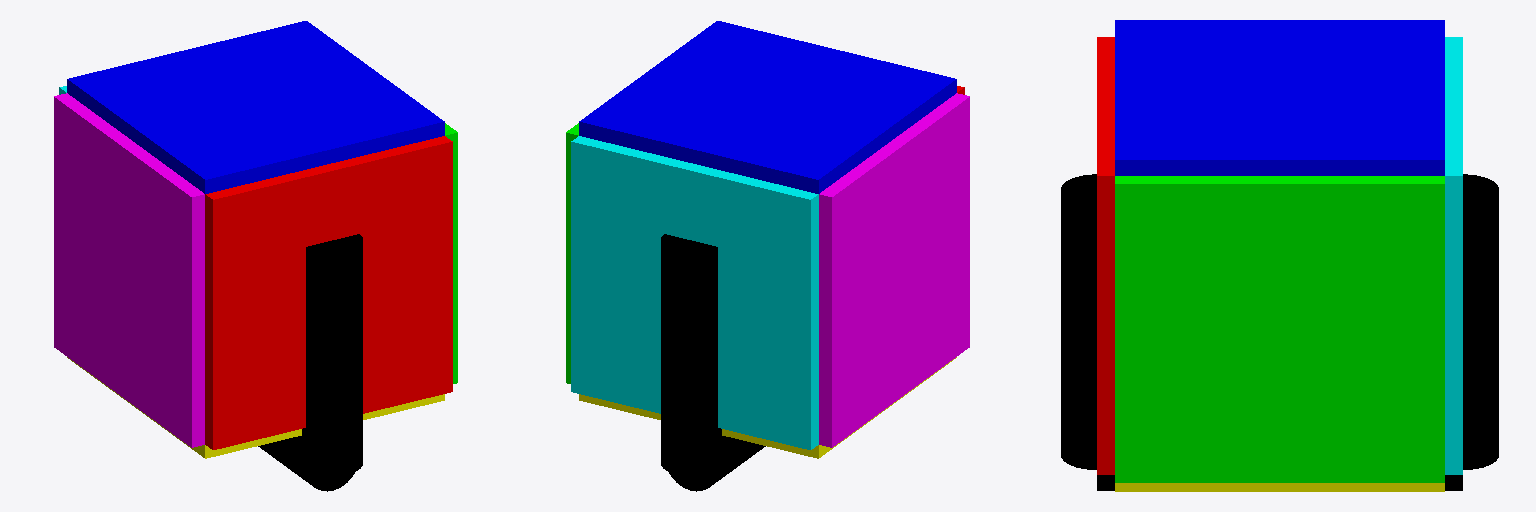
The robot description file, URDF, robot "UNNAMED_1":
<?xml version="1.0"?>
<robot  name="UNNAMED_1" >


      <!-- *************************************************** -->
  <!-- ******************* RVIZ Colors ******************* -->
  <!-- *************************************************** -->

  <material name="white">    <color rgba="1.00 1.00 1.00 1"/>  </material>
  <material name="gray">     <color rgba="0.60 0.60 0.60 1"/>  </material>
  <material name="table">    <color rgba="0.85 0.77 0.77 1"/>  </material>
  <material name="black">    <color rgba="0.00 0.00 0.00 1"/>  </material>

  <material name="red">      <color rgba="1.00 0.00 0.00 1"/>  </material>
  <material name="green">    <color rgba="0.00 1.00 0.00 1"/>  </material>
  <material name="blue">     <color rgba="0.00 0.00 1.00 1"/>  </material>

  <material name="cyan">     <color rgba="0.00 1.00 1.00 1"/>  </material>
  <material name="magenta">  <color rgba="1.00 0.00 1.00 1"/>  </material>
  <material name="yellow">   <color rgba="1.00 1.00 0.00 1"/>  </material>

  <material name="orange">   <color rgba="1.00 0.65 0.00 1"/>  </material>



 <link  name="world" />
 <joint  type="fixed"  name="world_joint" >
  <parent  link="world" />
  <child  link="link_0" />
  <origin  xyz="0 0 0"  rpy="0 0 0" />
 </joint>
 <link  name="link_0" >
  <visual >
   <origin  xyz="0 0 0.072"  rpy="1.57079632679 0 0" />
   <geometry >
    <mesh  filename="package://final_v1/meshes/servo.stl"  scale="0.002 0.002 0.002" />
   </geometry>
   <material  name="" >
    <color  rgba="0.2 0.1 0.8 1.0" />
   </material>
  </visual>
  <origin  xyz="0 0 0"  rpy="1.57079632679 0 1.57079632679" />
 </link>
 <joint  type="continuous"  name="joint1" >
  <origin  xyz="0 0 0.072"  rpy="0 0 -1.57079632679" />
  <limit  velocity="0.1"  effort="1000"  upper="3.14"  lower="-3.14" />
  <axis  xyz="1 0 0" />
  <parent  link="link_0" />
  <child  link="link_1" />
 </joint>
 <link  name="link_1" >
  <origin  xyz="0 0 0.036"  rpy="0 0 0" />
  <visual >
   <origin  xyz="0 0 0.072"  rpy="1.57079632679 0 0" />
   <geometry >
    <mesh  filename="package://final_v1/meshes/servo.stl"  scale="0.002 0.002 0.002" />
   </geometry>
   <material  name="" >
    <color  rgba="0.8 0.1 0.1 1.0" />
   </material>
  </visual>
 </link>
 <joint  type="continuous"  name="joint2" >
  <origin  xyz="0 0 0.072"  rpy="0 0 1.57079632679" />
  <limit  velocity="0.1"  effort="1000"  upper="3.14"  lower="-3.14" />
  <axis  xyz="1 0 0" />
  <parent  link="link_1" />
  <child  link="link_2" />
 </joint>
 <link  name="link_2" >
  <origin  xyz="0 0 0.036"  rpy="0 0 0" />
  <visual >
   <origin  xyz="0 0 0.072"  rpy="1.57079632679 0 0" />
   <geometry >
    <mesh  filename="package://final_v1/meshes/servo.stl"  scale="0.002 0.002 0.002" />
   </geometry>
   <material  name="" >
    <color  rgba="0.1 0.8 0.1 1.0" />
   </material>
  </visual>
 </link>
 <joint  type="continuous"  name="joint3" >
  <origin  xyz="0 0 0.072"  rpy="0 0 -1.57079632679" />
  <limit  velocity="0.1"  effort="1000"  upper="3.14"  lower="-3.14" />
  <axis  xyz="1 0 0" />
  <parent  link="link_2" />
  <child  link="link_3" />
 </joint>
 <link  name="link_3" >
  <origin  xyz="0 0 0.036"  rpy="0 0 0" />
  <visual >
   <origin  xyz="0 0 0.072"  rpy="1.57079632679 0 0" />
   <geometry >
    <mesh  filename="package://final_v1/meshes/servo.stl"  scale="0.002 0.002 0.002" />
   </geometry>
   <material  name="" >
    <color  rgba="0.8 0.1 0.1 1.0" />
   </material>
  </visual>
 </link>
 <joint  type="continuous"  name="joint4" >
  <origin  xyz="0 0 0.072"  rpy="0 0 1.57079632679" />
  <limit  velocity="0.1"  effort="1000"  upper="3.14"  lower="-3.14" />
  <axis  xyz="1 0 0" />
  <parent  link="link_3" />
  <child  link="link_4" />
 </joint>
 <link  name="link_4" >
  <origin  xyz="0 0 0.036"  rpy="0 0 0" />
  <visual >
   <origin  xyz="0 0 0.072"  rpy="1.57079632679 0 0" />
   <geometry >
    <mesh  filename="package://final_v1/meshes/servo.stl"  scale="0.002 0.002 0.002" />
   </geometry>
   <material  name="" >
    <color  rgba="0.1 0.8 0.1 1.0" />
   </material>
  </visual>
 </link>
 <joint  type="continuous"  name="joint5" >
  <origin  xyz="0 0 0.072"  rpy="0 0 -1.57079632679" />
  <limit  velocity="0.1"  effort="1000"  upper="3.14"  lower="-3.14" />
  <axis  xyz="1 0 0" />
  <parent  link="link_4" />
  <child  link="link_5" />
 </joint>
 <link  name="link_5" >
  <origin  xyz="0 0 0.036"  rpy="0 0 0" />
  <visual >
   <origin  xyz="0 0 0.072"  rpy="1.57079632679 0 0" />
   <geometry >
    <mesh  filename="package://final_v1/meshes/servo.stl"  scale="0.002 0.002 0.002" />
   </geometry>
   <material  name="" >
    <color  rgba="0.8 0.1 0.1 1.0" />
   </material>
  </visual>
 </link>
 <joint  type="continuous"  name="joint6" >
  <origin  xyz="0 0 0.072"  rpy="0 0 1.57079632679" />
  <limit  velocity="0.1"  effort="1000"  upper="3.14"  lower="-3.14" />
  <axis  xyz="1 0 0" />
  <parent  link="link_5" />
  <child  link="link_6" />
 </joint>
 <link  name="link_6" >
  <origin  xyz="0 0 0.036"  rpy="0 0 0" />
  <visual >
   <origin  xyz="0 0 0.072"  rpy="1.57079632679 0 0" />
   <geometry >
    <mesh  filename="package://final_v1/meshes/servo.stl"  scale="0.002 0.002 0.002" />
   </geometry>
   <material  name="" >
    <color  rgba="0.1 0.8 0.1 1.0" />
   </material>
  </visual>
 </link>
 <joint  type="continuous"  name="joint7" >
  <origin  xyz="0 0 0.072"  rpy="0 0 -1.57079632679" />
  <limit  velocity="0.1"  effort="1000"  upper="3.14"  lower="-3.14" />
  <axis  xyz="1 0 0" />
  <parent  link="link_6" />
  <child  link="link_7" />
 </joint>
 <link  name="link_7" >
  <origin  xyz="0 0 0.036"  rpy="0 0 0" />
  <visual >
   <origin  xyz="0 0 0.072"  rpy="1.57079632679 0 0" />
   <geometry >
    <mesh  filename="package://final_v1/meshes/servo.stl"  scale="0.002 0.002 0.002" />
   </geometry>
   <material  name="" >
    <color  rgba="0.8 0.1 0.1 1.0" />
   </material>
  </visual>
 </link>
 <joint  type="continuous"  name="joint8" >
  <origin  xyz="0 0 0.072"  rpy="0 0 1.57079632679" />
  <limit  velocity="0.1"  effort="1000"  upper="3.14"  lower="-3.14" />
  <axis  xyz="1 0 0" />
  <parent  link="link_7" />
  <child  link="link_8" />
 </joint>
 <link  name="link_8" >
  <origin  xyz="0 0 0.036"  rpy="0 0 0" />
  <visual >
   <origin  xyz="0 0 0.072"  rpy="1.57079632679 0 0" />
   <geometry >
    <mesh  filename="package://final_v1/meshes/servo.stl"  scale="0.002 0.002 0.002" />
   </geometry>
   <material  name="" >
    <color  rgba="0.1 0.8 0.1 1.0" />
   </material>
  </visual>
 </link>
 <joint  type="continuous"  name="joint9" >
  <origin  xyz="0 0 0.072"  rpy="0 0 -1.57079632679" />
  <limit  velocity="0.1"  effort="1000"  upper="3.14"  lower="-3.14" />
  <axis  xyz="1 0 0" />
  <parent  link="link_8" />
  <child  link="link_9" />
 </joint>
 <link  name="link_9" >
  <origin  xyz="0 0 0.036"  rpy="0 0 0" />
  <visual >
   <origin  xyz="0 0 0.072"  rpy="1.57079632679 0 0" />
   <geometry >
    <mesh  filename="package://final_v1/meshes/servo.stl"  scale="0.002 0.002 0.002" />
   </geometry>
   <material  name="" >
    <color  rgba="0.8 0.1 0.1 1.0" />
   </material>
  </visual>
 </link>




   <joint name="final" type="fixed">
    <parent link="link_9"/>
    <child  link="tip"/>
    <origin xyz="0 0 0.16" rpy="0 0 0"/>
  </joint>

  <link name="tip"/>

 <!-- Attach Fingers and Cube*** -->

 <joint name="attach-palm" type="fixed">
    <parent link="link_9"/>
    <child  link="palm"/>
  </joint>
  <link name="palm">
    <visual>
      <origin xyz="0 0 0.1" rpy="0 1.5708 0"/>
      <geometry>
    <cylinder length="0.1" radius="0.01"/>
      </geometry>
      <material name="black"/>
    </visual>
    <collision>
      <origin xyz="0 0 0.1" rpy="0 1.5708 0"/>
      <geometry>
    <cylinder length="0.1" radius="0.01"/>
      </geometry>
    </collision>
    <inertial>
      <origin xyz="0 0.1 0" rpy="0 1.5708 0"/>
      <mass value="0.05"/>
      <inertia
        ixx="0.000043" ixy="0.0" ixz="0.0"
        iyy="0.000043" iyz="0.0"
        izz="0.000003"/>
    </inertial>
  </link>

  <joint name="attach-leftfinger" type="fixed">
    <parent link="link_9"/>
    <child  link="leftfinger"/>
  </joint>
  <link name="leftfinger">
    <visual>
      <origin xyz="-0.05 0 0.14" rpy="0 0 0"/>
      <geometry>
    <cylinder length="0.08" radius="0.01"/>
      </geometry>
      <material name="black"/>
    </visual>
    <inertial>
      <origin xyz="-0.05 0 0.14" rpy="0 0 0"/>
      <mass value="0.05"/>
      <inertia
        ixx="0.000022" ixy="0.0" ixz="0.0"
        iyy="0.000022" iyz="0.0"
        izz="0.000002"/>
    </inertial>
  </link>

  <joint name="attach-rightfinger" type="fixed">
    <parent link="link_9"/>
    <child  link="rightfinger"/>
  </joint>
  <link name="rightfinger">
    <visual>
      <origin xyz="0.05 0 0.14" rpy="0 0 0"/>
      <geometry>
    <cylinder length="0.08" radius="0.01"/>
      </geometry>
      <material name="black"/>
    </visual>
    <inertial>
      <origin xyz="0.05 0 0.14" rpy="0 0 0"/>
      <mass value="0.05"/>
      <inertia
        ixx="0.000022" ixy="0.0" ixz="0.0"
        iyy="0.000022" iyz="0.0"
        izz="0.000002"/>
    </inertial>
  </link>

  <!-- *** Cube: Six sides *** -->

  <joint name="attach-cube" type="fixed">
    <parent link="tip"/>
    <child  link="cube"/>
  </joint>
  <link name="cube">
    <collision>
      <origin xyz="0 0 0" rpy="0 0 0"/>
      <geometry>
    <box size="0.10 0.10 0.10"/>
      </geometry>
    </collision>
    <inertial>
      <origin xyz="0 0 0" rpy="0 0 0"/>
      <mass value="1.0"/>
      <inertia
        ixx="0.000120" ixy="0.0" ixz="0.0"
        iyy="0.000120" iyz="0.0"
        izz="0.000120"/>
    </inertial>
  </link>

  <joint name="attach-cube-xp" type="fixed">
    <parent link="cube"/>
    <child  link="cube-xp"/>
  </joint>
  <link name="cube-xp">
    <visual>
      <origin         xyz=" 0.04   0    0"    rpy="0 0 0"/>
      <geometry> <box size="0.0202 0.09 0.09"/> </geometry>
      <material name="red"/>
    </visual>
  </link>

  <joint name="attach-cube-xm" type="fixed">
    <parent link="cube"/>
    <child  link="cube-xm"/>
  </joint>
  <link name="cube-xm">
    <visual>
      <origin         xyz="-0.04   0    0"    rpy="0 0 0"/>
      <geometry> <box size="0.0202 0.09 0.09"/> </geometry>
      <material name="cyan"/>
    </visual>
  </link>

  <joint name="attach-cube-yp" type="fixed">
    <parent link="cube"/>
    <child  link="cube-yp"/>
  </joint>
  <link name="cube-yp">
    <visual>
      <origin         xyz=" 0    0.04   0"    rpy="0 0 0"/>
      <geometry> <box size="0.09 0.0202 0.09"/> </geometry>
      <material name="green"/>
    </visual>
  </link>

  <joint name="attach-cube-ym" type="fixed">
    <parent link="cube"/>
    <child  link="cube-ym"/>
  </joint>
  <link name="cube-ym">
    <visual>
      <origin         xyz=" 0   -0.04   0"    rpy="0 0 0"/>
      <geometry> <box size="0.09 0.0202 0.09"/> </geometry>
      <material name="magenta"/>
    </visual>
  </link>

  <joint name="attach-cube-zp" type="fixed">
    <parent link="cube"/>
    <child  link="cube-zp"/>
  </joint>
  <link name="cube-zp">
    <visual>
      <origin         xyz=" 0    0    0.04"   rpy="0 0 0"/>
      <geometry> <box size="0.09 0.09 0.0202"/> </geometry>
      <material name="blue"/>
    </visual>
  </link>

  <joint name="attach-cube-zm" type="fixed">
    <parent link="cube"/>
    <child  link="cube-zm"/>
  </joint>
  <link name="cube-zm">
    <visual>
      <origin         xyz=" 0    0   -0.04"   rpy="0 0 0"/>
      <geometry> <box size="0.09 0.09 0.0202"/> </geometry>
      <material name="yellow"/>
    </visual>
  </link>
</robot>

--- Render facts (derived) ---
3 views of the same robot in one strip: view 1: azimuth 30°, elevation 25°; view 2: azimuth 150°, elevation 25°; view 3: azimuth 270°, elevation 25° (orthographic).
Robot: UNNAMED_1 — 22 links, 21 joints (9 continuous, 12 fixed); root link world; default pose: every joint at zero.
Links seen in each view (by area): view 1: cube-xp, cube-ym, cube-zp, rightfinger, palm, cube-zm, cube-yp; view 2: cube-xm, cube-ym, cube-zp, leftfinger, palm, cube-zm, cube-yp; view 3: cube-yp, cube-zp, leftfinger, rightfinger, cube-xp, cube-xm, cube-zm, palm.
Link boxes in pixels (left/top/right/bottom): cube-xp: left=205, top=136, right=452, bottom=449; cube-ym: left=54, top=93, right=204, bottom=447; cube-zp: left=67, top=21, right=444, bottom=193; rightfinger: left=302, top=234, right=362, bottom=475; palm: left=258, top=436, right=354, bottom=491; cube-zm: left=67, top=357, right=444, bottom=458; cube-yp: left=445, top=123, right=457, bottom=383; cube-xm: left=571, top=136, right=818, bottom=449; cube-ym: left=819, top=93, right=969, bottom=447; cube-zp: left=579, top=21, right=956, bottom=193; leftfinger: left=661, top=234, right=721, bottom=475; palm: left=669, top=436, right=765, bottom=491; cube-zm: left=579, top=357, right=956, bottom=458; cube-yp: left=566, top=123, right=578, bottom=383; cube-yp: left=1115, top=176, right=1444, bottom=482; cube-zp: left=1115, top=20, right=1444, bottom=175; leftfinger: left=1463, top=174, right=1498, bottom=469; rightfinger: left=1061, top=174, right=1096, bottom=469; cube-xp: left=1097, top=37, right=1114, bottom=474; cube-xm: left=1445, top=37, right=1462, bottom=474; cube-zm: left=1115, top=483, right=1444, bottom=491; palm: left=1097, top=475, right=1462, bottom=490.
Size in the robot's own frame: 0.1002 by 0.12 by 0.1201 metres.
0 mesh visuals loaded from 1 distinct referenced files (none loaded); not drawn: 10 (reference not matched to a file when rendering).